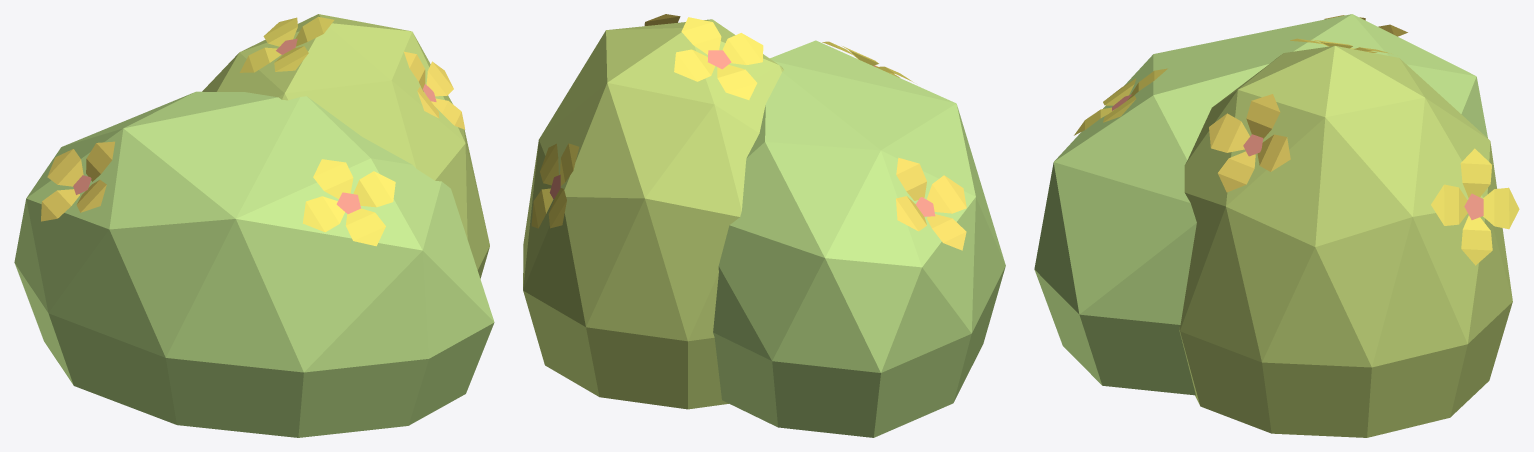
Rendered from FlowerBush_e_m_01.fbx.
3 renders of one model, left to right at view 1: azimuth 30°, elevation 25°; view 2: azimuth 150°, elevation 25°; view 3: azimuth 270°, elevation 25°, orthographic. The views are drawn at different scales.
Parts seen in each view (by area): view 1: FlowerBush_e_m_01; view 2: FlowerBush_e_m_01; view 3: FlowerBush_e_m_01.
Boxes of the visible parts, left/top/right/bottom form: FlowerBush_e_m_01: left=14, top=14, right=494, bottom=437; FlowerBush_e_m_01: left=523, top=14, right=1005, bottom=437; FlowerBush_e_m_01: left=1034, top=14, right=1519, bottom=437.
Bounding box in the file's own units: 1.69 × 1.21 × 1.59.
